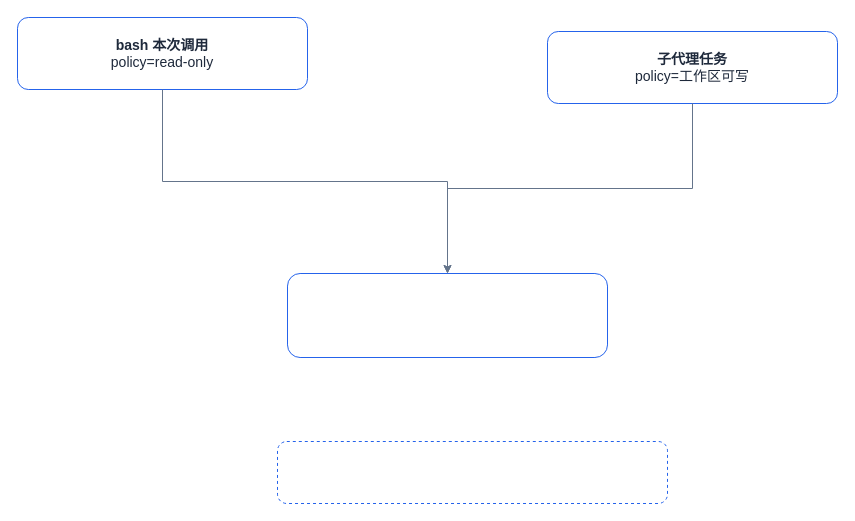
Image size: 855x521. Some labels were removed from this diagram. The centre of each missing label's shape, as x and y in pixels:
"同一个 Provider · 同瞬间" goes at point 447,315.
"策略 PER CALL 按次携带，不是全局开关" goes at point 472,472.
